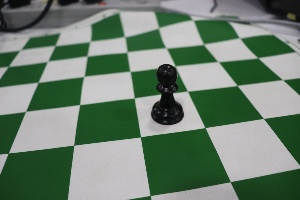black_pawn: (142, 53, 189, 132)
